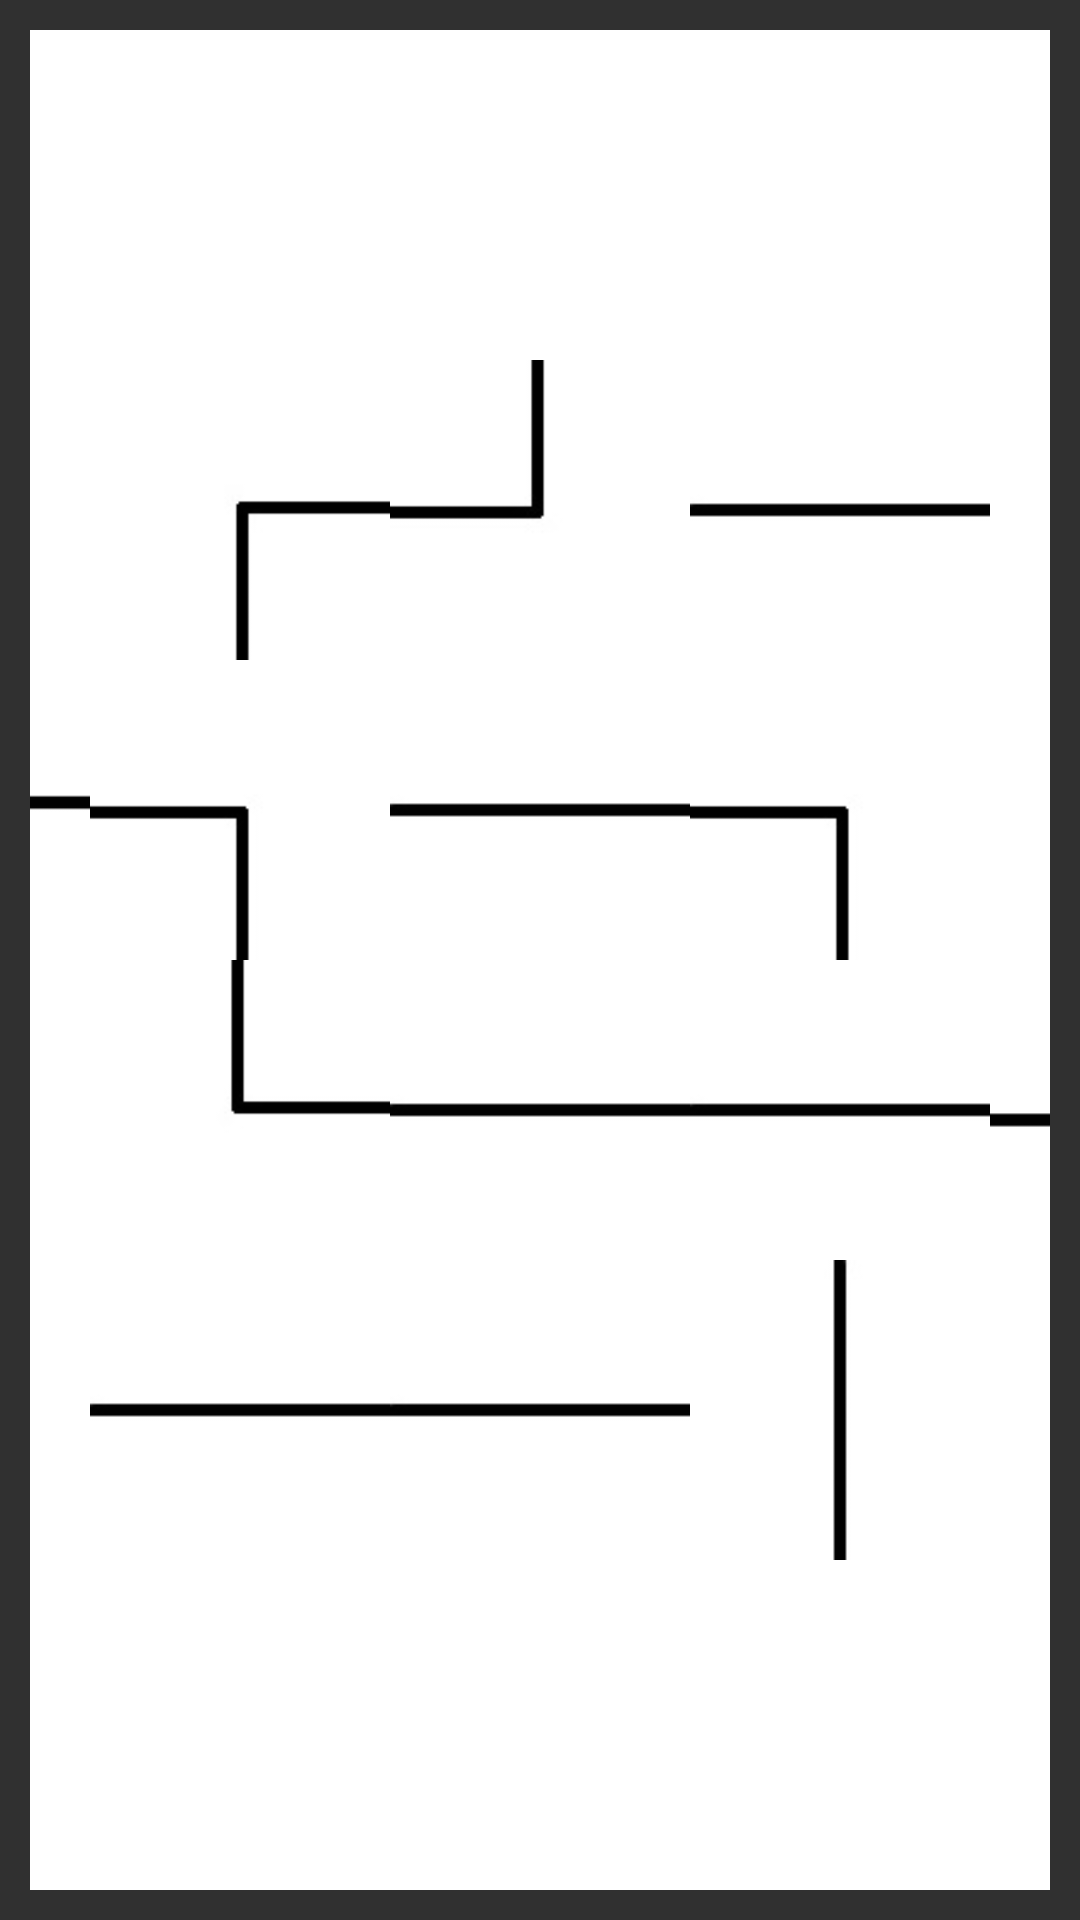

Named icons in this screenshot (1080px x 1920px) and their centers, [x,y]:
ugol: [467,439], [312,580], [169,882], [769,882], [310,1037]
